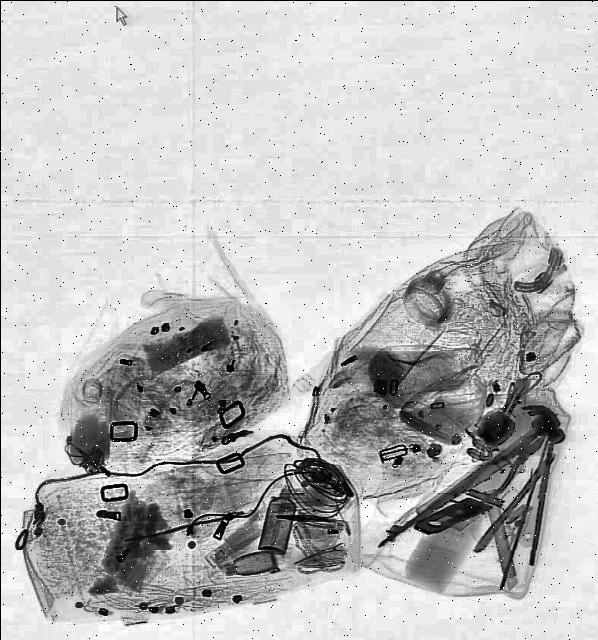Pliers: (446, 417, 554, 518)
